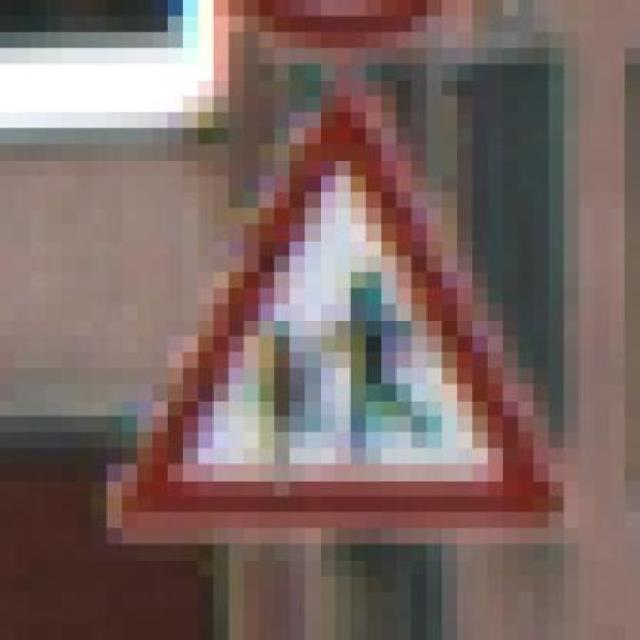Beware of children: (89, 76, 592, 541)
